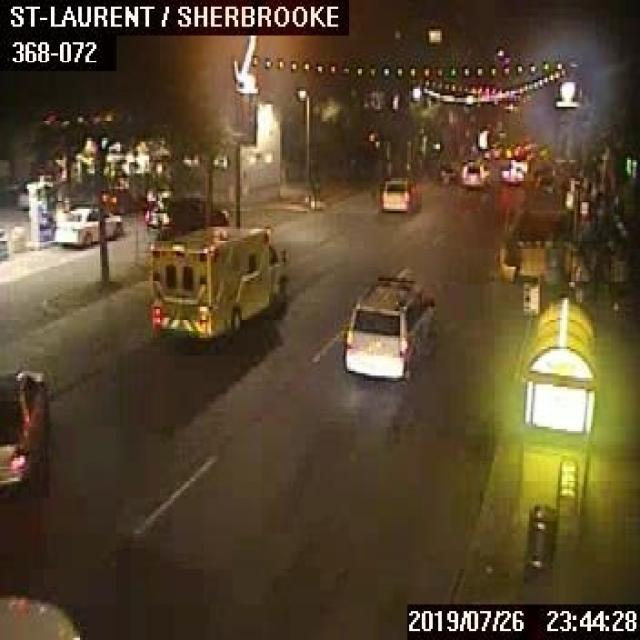pedestrian: (572, 261, 584, 302)
vehicle: (146, 221, 288, 335), (342, 271, 438, 376), (0, 367, 44, 493), (0, 591, 82, 638), (145, 197, 227, 232), (54, 205, 121, 245), (380, 176, 417, 213), (460, 158, 487, 186), (498, 160, 524, 182), (438, 161, 458, 183), (482, 142, 500, 158)
